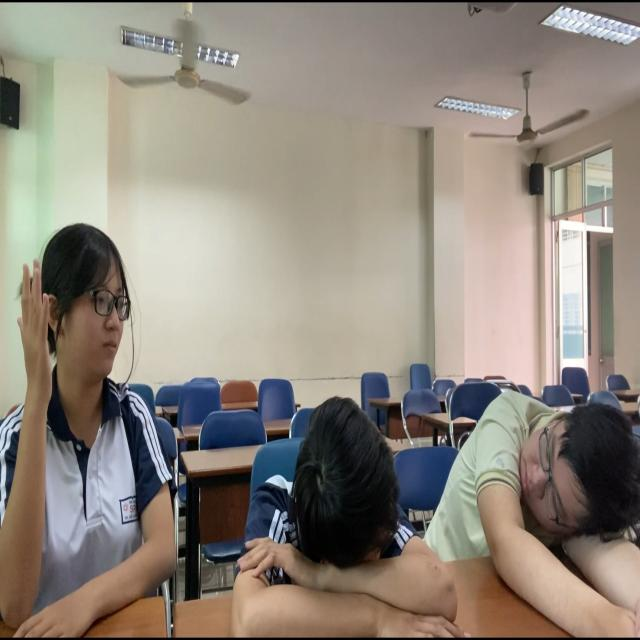raise_hand: (1, 182, 187, 628)
sleep: (427, 335, 640, 640), (221, 405, 478, 640)
